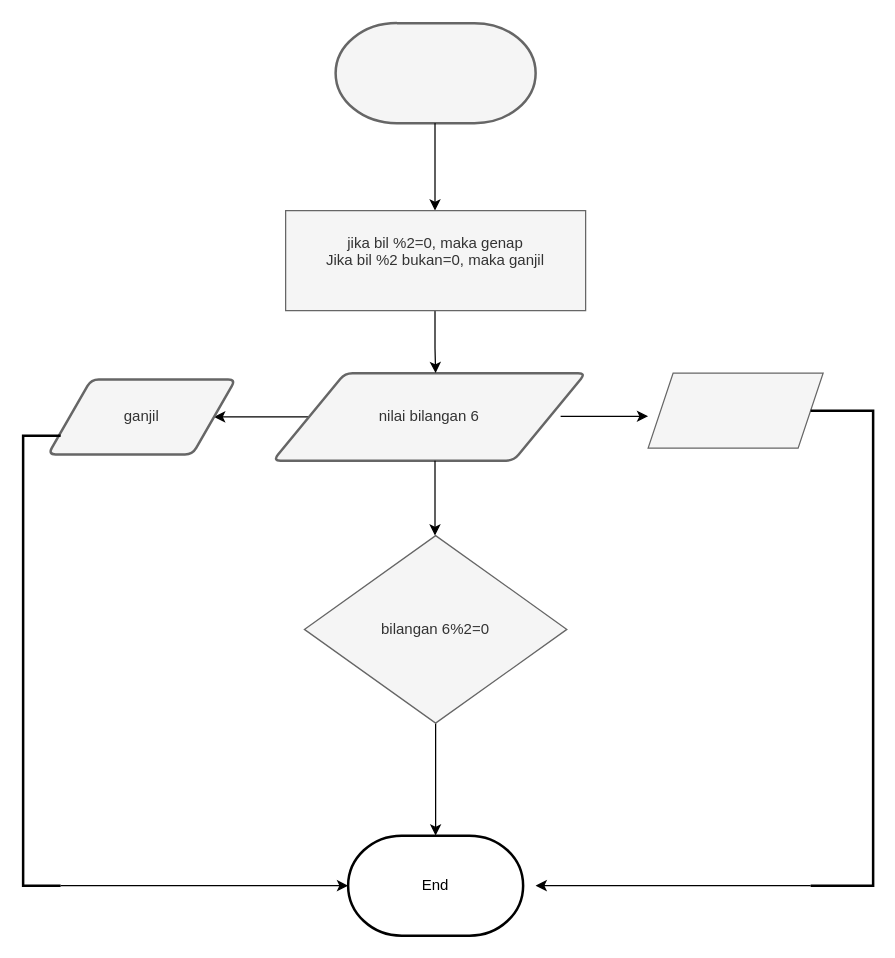
This 895x958 diagram has some shape labels left out. Each missing label, with the box of its shape:
genap: (647, 372, 823, 448)
start: (334, 21, 536, 124)
